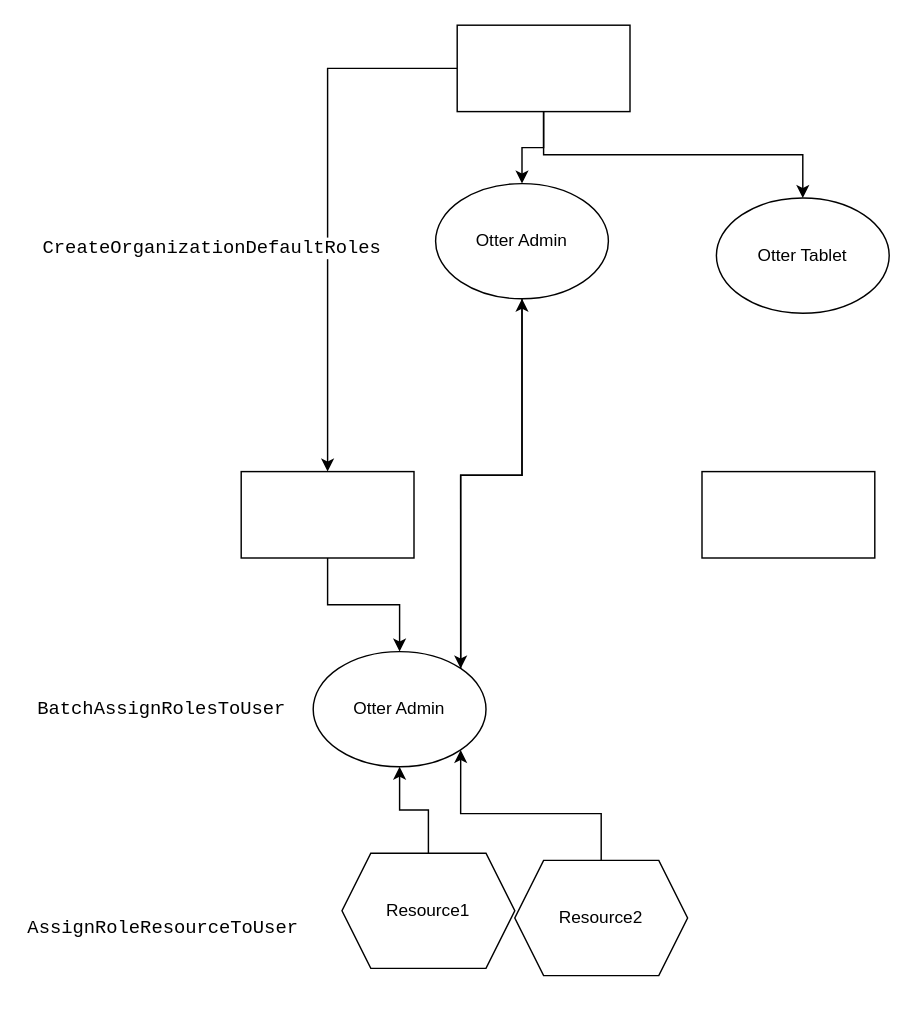
Some shapes in this 914 by 1015 pixel diagram are drawn without their labels. The shapes that lost their labels are listed below. From the top down, each one's centre as x and y in pixels, then its label:
At (x=543, y=68): "Organization".
At (x=327, y=514): "User1".
At (x=788, y=514): "User2".
